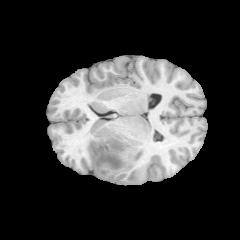glioma: (88, 134, 135, 176)
